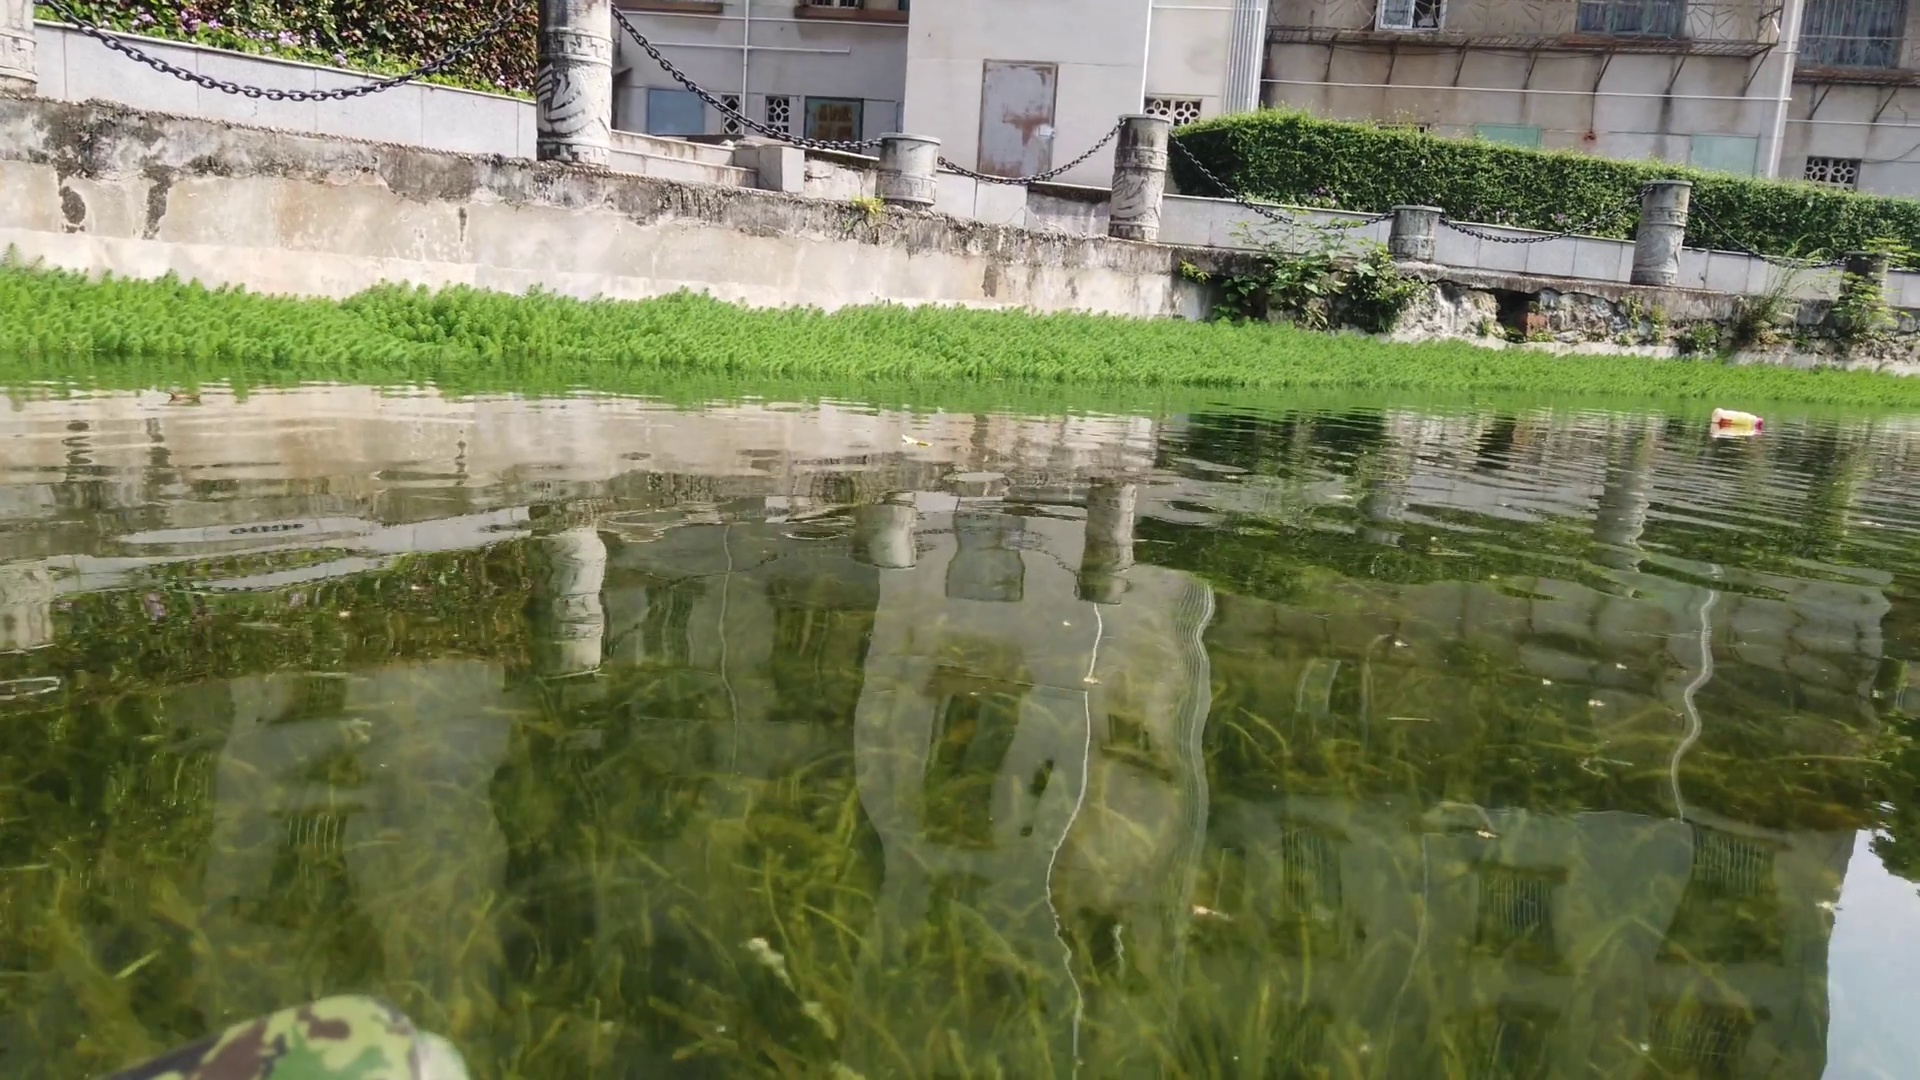bottle: (1709, 407, 1763, 430)
